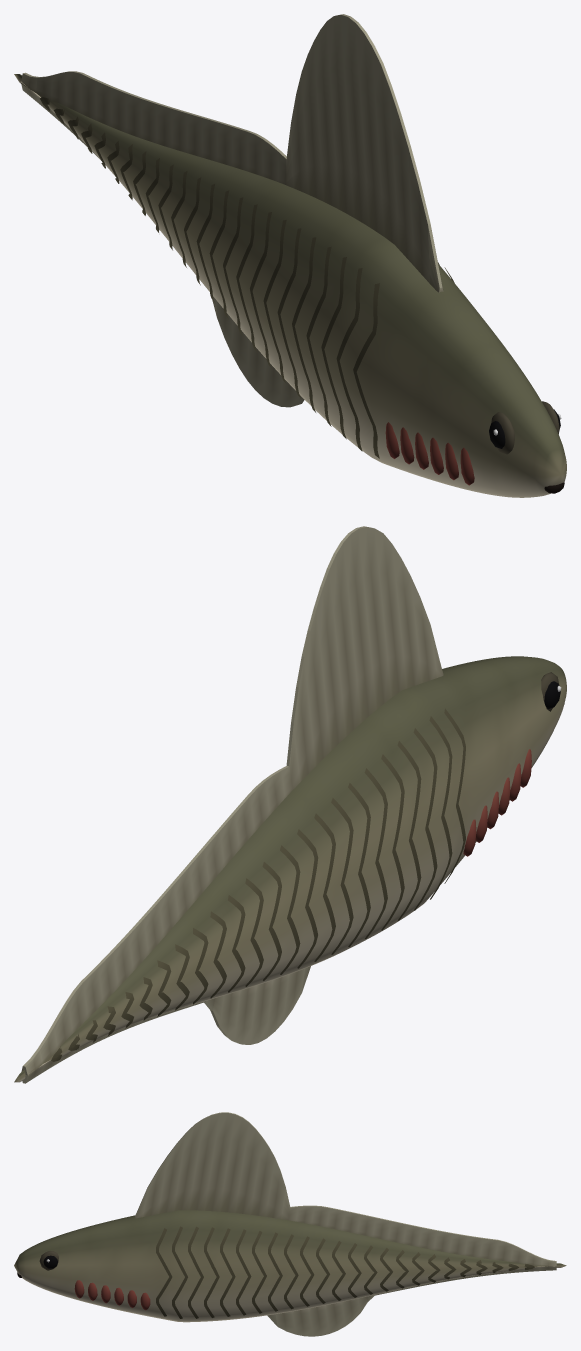
File: Myllokunmingia.fbx
The picture shows the model from 3 angles, top to bottom: view 1: azimuth 30°, elevation 25°; view 2: azimuth 150°, elevation 25°; view 3: azimuth 270°, elevation 25°; orthographic projection. The views are drawn at different scales.
Parts seen in each view (by area): view 1: Myllokunmingia; view 2: Myllokunmingia; view 3: Myllokunmingia.
Part boxes in pixels (bbox=[...]): Myllokunmingia: bbox=[14, 14, 566, 497]; Myllokunmingia: bbox=[14, 526, 566, 1083]; Myllokunmingia: bbox=[14, 1112, 566, 1336].
Bounding box in the file's own units: 0.1159 × 0.4688 × 1.05.
